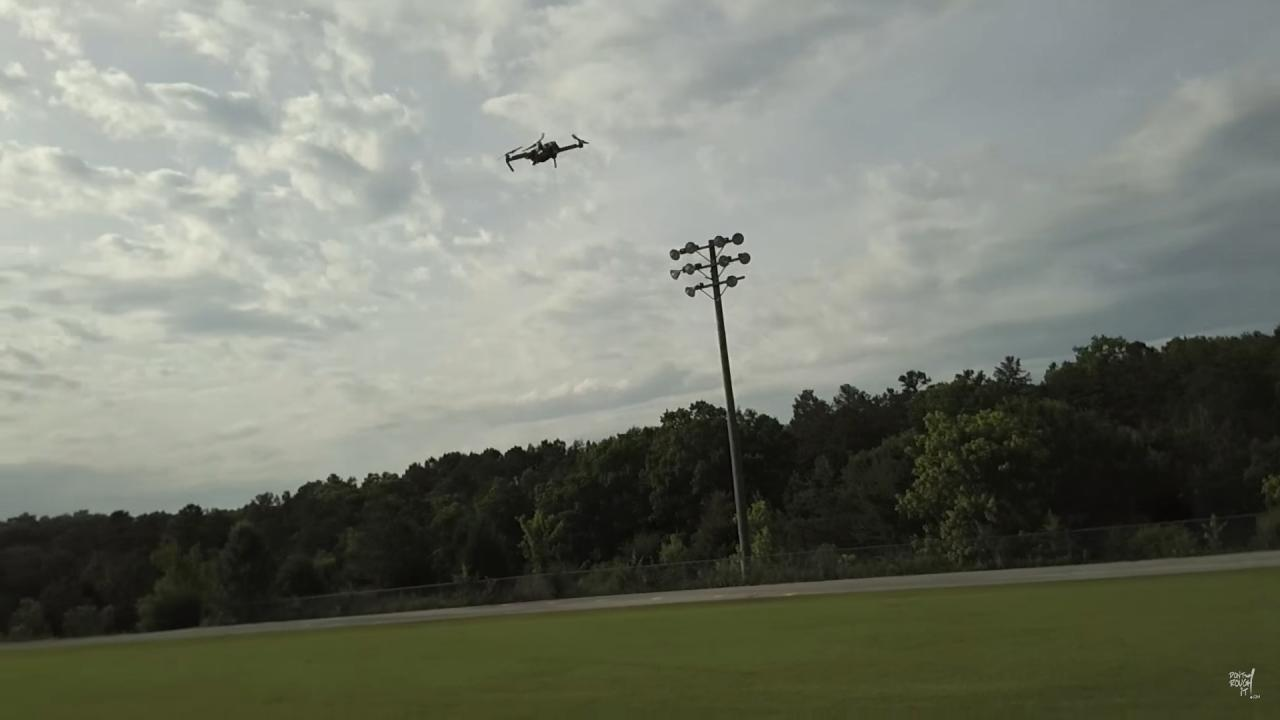Drone: (494, 121, 599, 182)
